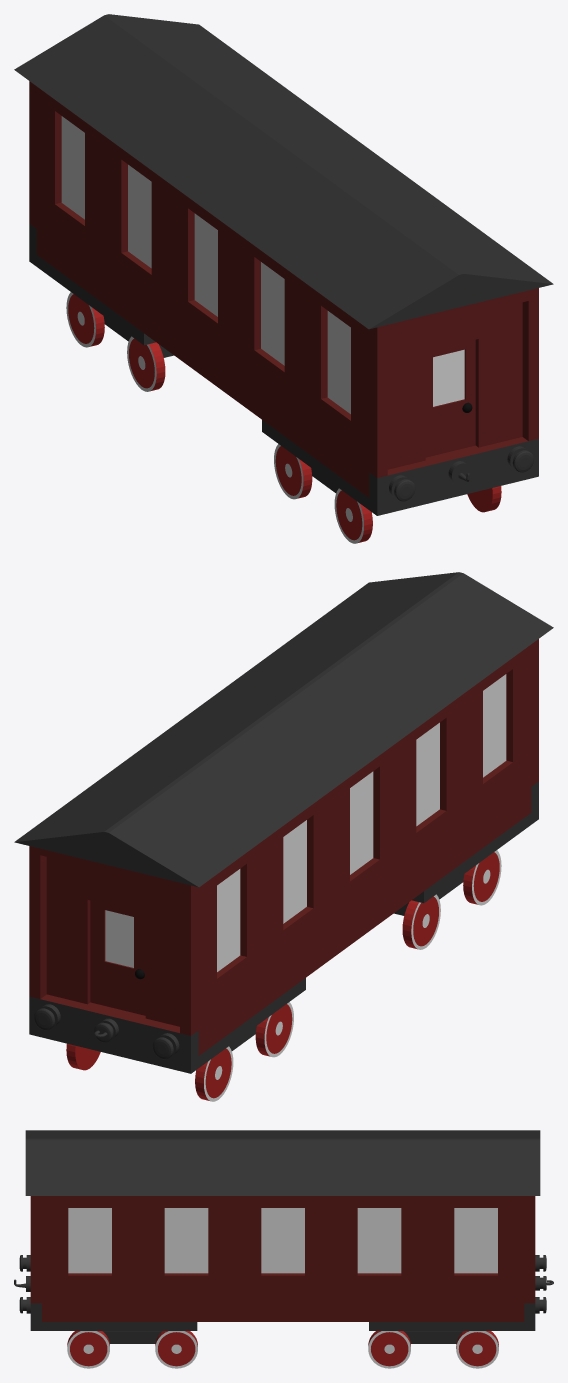
The model's file is Residential wagon 1.fbx.
3 views of the same model, one above another, from view 1: azimuth 30°, elevation 25°; view 2: azimuth 150°, elevation 25°; view 3: azimuth 270°, elevation 25° (orthographic). The views are drawn at different scales.
Visible parts, largest first — view 1: Residential wagon; view 2: Residential wagon; view 3: Residential wagon.
Part boxes in pixels (x1,y1,x2,y2): Residential wagon: (14,14,553,543); Residential wagon: (14,572,553,1101); Residential wagon: (14,1130,553,1368).
Bounding box in the file's own units: 404 × 589 × 1408.
